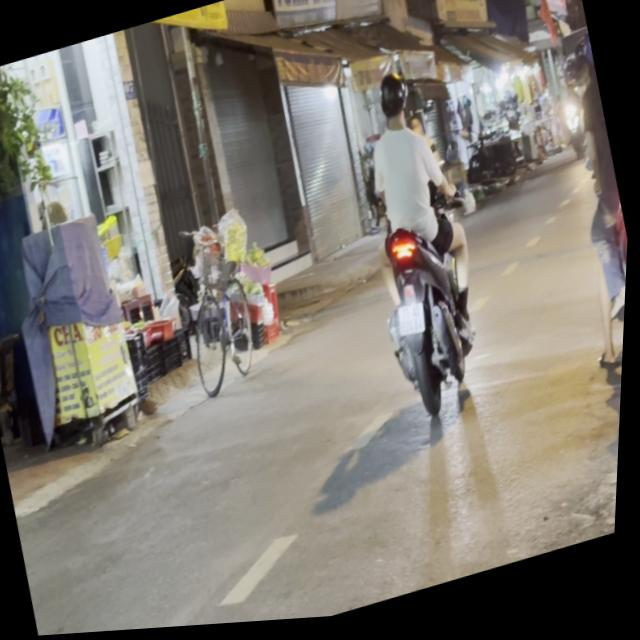helmet: (370, 72, 412, 135)
licenseplate: (326, 58, 510, 433)
nohelmet: (396, 304, 430, 342)
